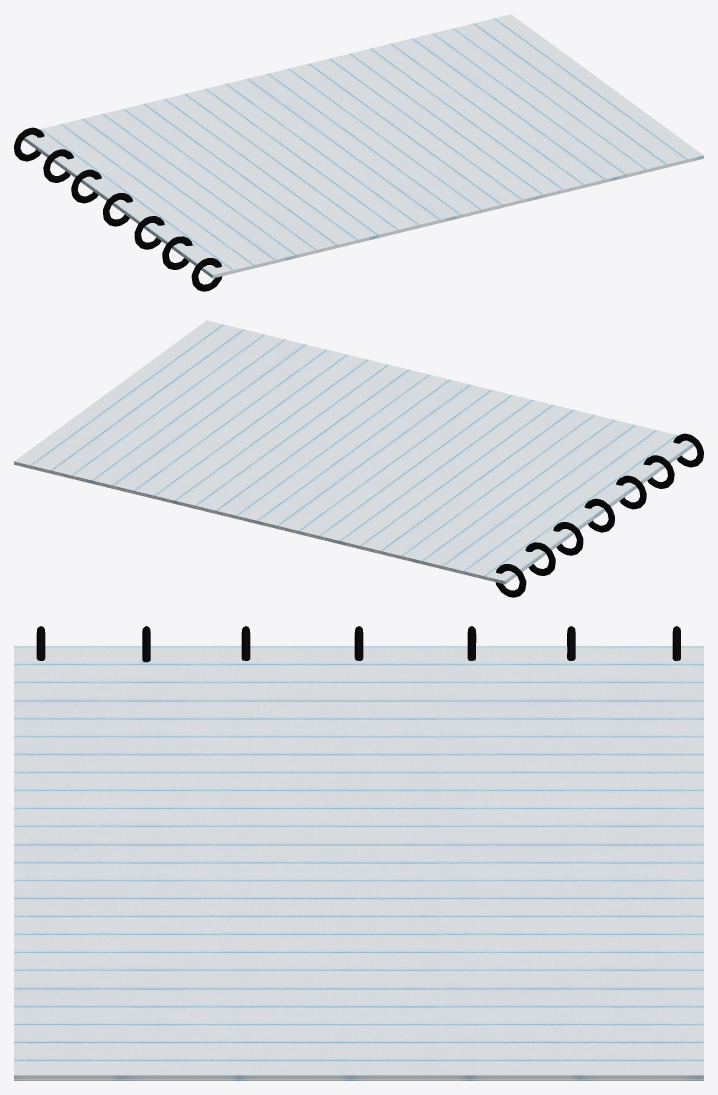
Rendered from Notebook.fbx.
3 renders of one model, top to bottom at view 1: azimuth 30°, elevation 25°; view 2: azimuth 150°, elevation 25°; view 3: azimuth 270°, elevation 25°, orthographic. The views are drawn at different scales.
Visible parts, largest first — view 1: Page1, Torus, Page3, Page4, Page5, Page2; view 2: Page1, Torus, Page3, Page4, Page5, Page2; view 3: Page1, Torus, Page2, Page3, Page4, Page5.
Part boxes in pixels (x1,y1,x2,y2): Page1: [24, 14, 703, 275]; Torus: [14, 127, 222, 291]; Page3: [24, 139, 703, 276]; Page4: [24, 139, 703, 277]; Page5: [24, 140, 703, 278]; Page2: [24, 138, 703, 276]; Page1: [14, 320, 692, 581]; Torus: [495, 433, 703, 597]; Page3: [14, 445, 693, 582]; Page4: [14, 445, 693, 583]; Page5: [14, 445, 694, 584]; Page2: [14, 444, 693, 582]; Page1: [14, 646, 703, 1076]; Torus: [36, 626, 680, 662]; Page2: [14, 658, 703, 1077]; Page3: [14, 1077, 703, 1078]; Page4: [14, 1078, 703, 1079]; Page5: [14, 1079, 703, 1080].
Size of the model in its own units: 30.97 by 1.92 by 20.5.
Materials: 2 (1 with a texture image).
